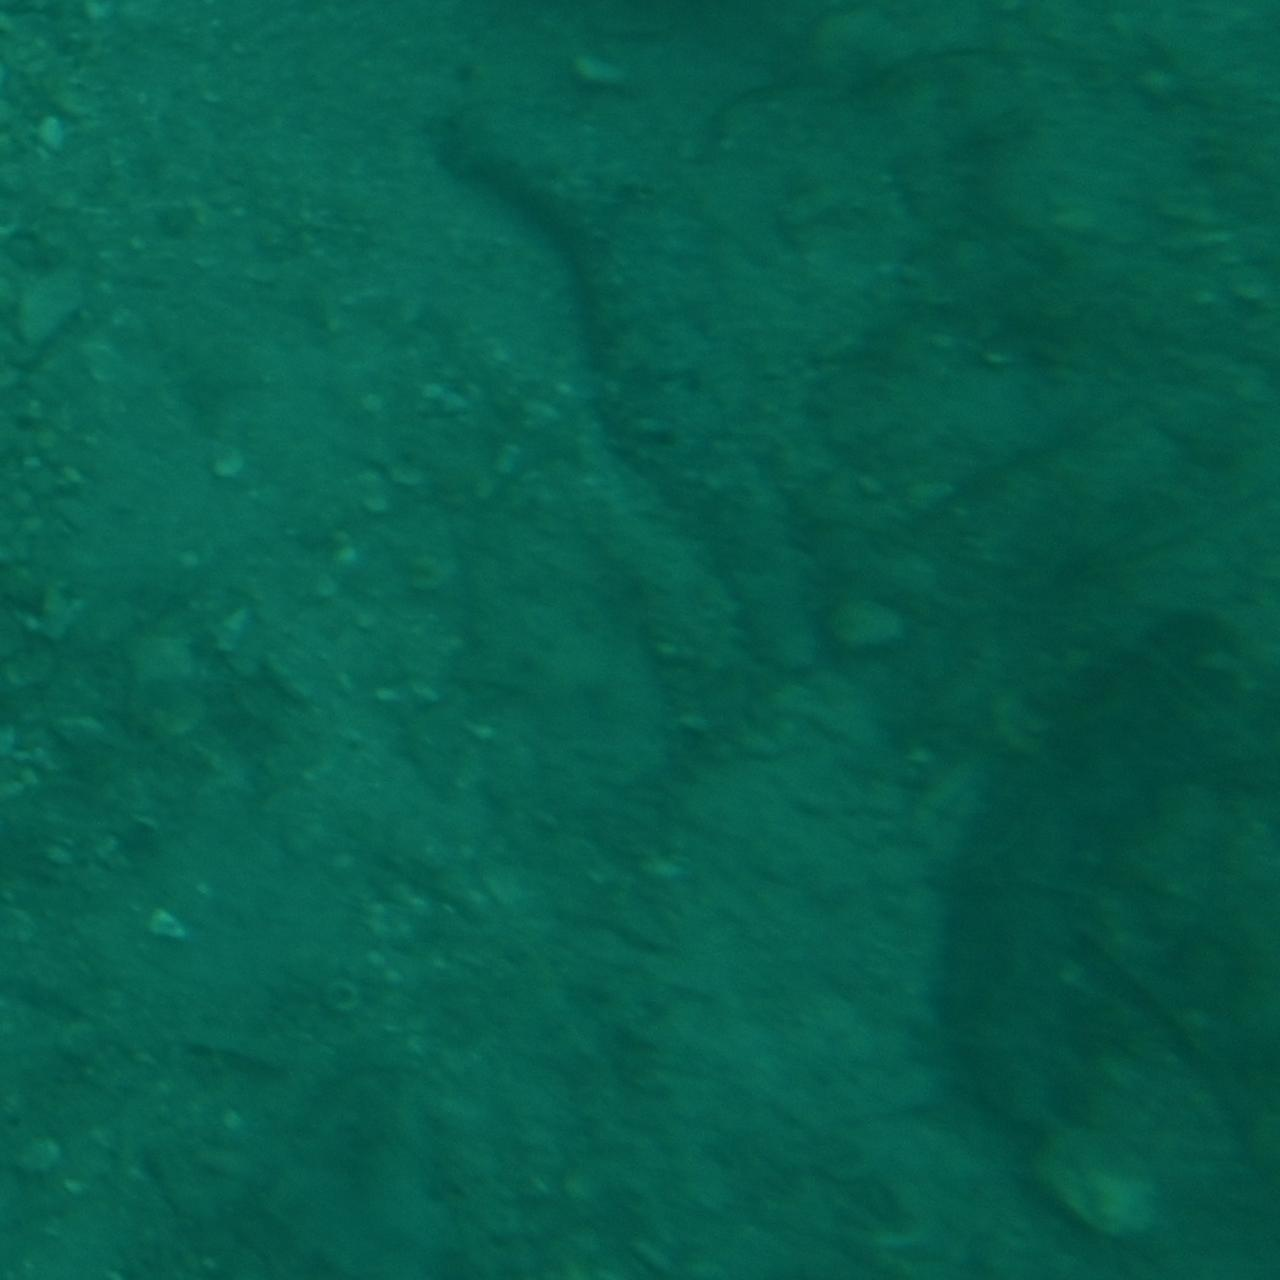Holothuria tubulosa: (429, 88, 844, 707), (933, 611, 1239, 1157)
